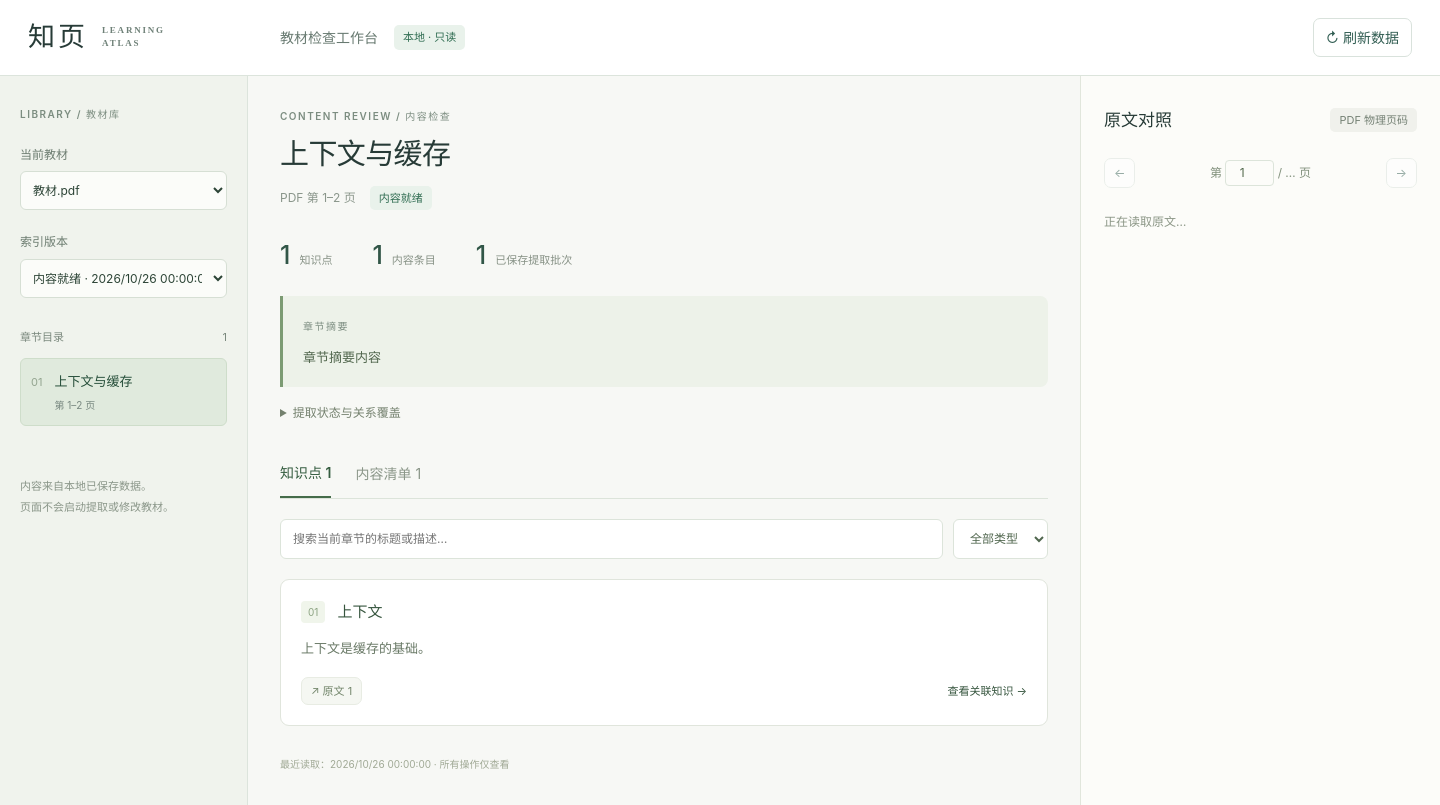
浏览已保存章节、筛选内容、点击引用并保留物理页码
This screenshot has width=1440, height=805.
Expected: the heading "上下文与缓存" is shown, [280, 136, 450, 170]
In the field labelled "搜索当前章节": (612,539) [280, 519, 943, 559], type "找不到"
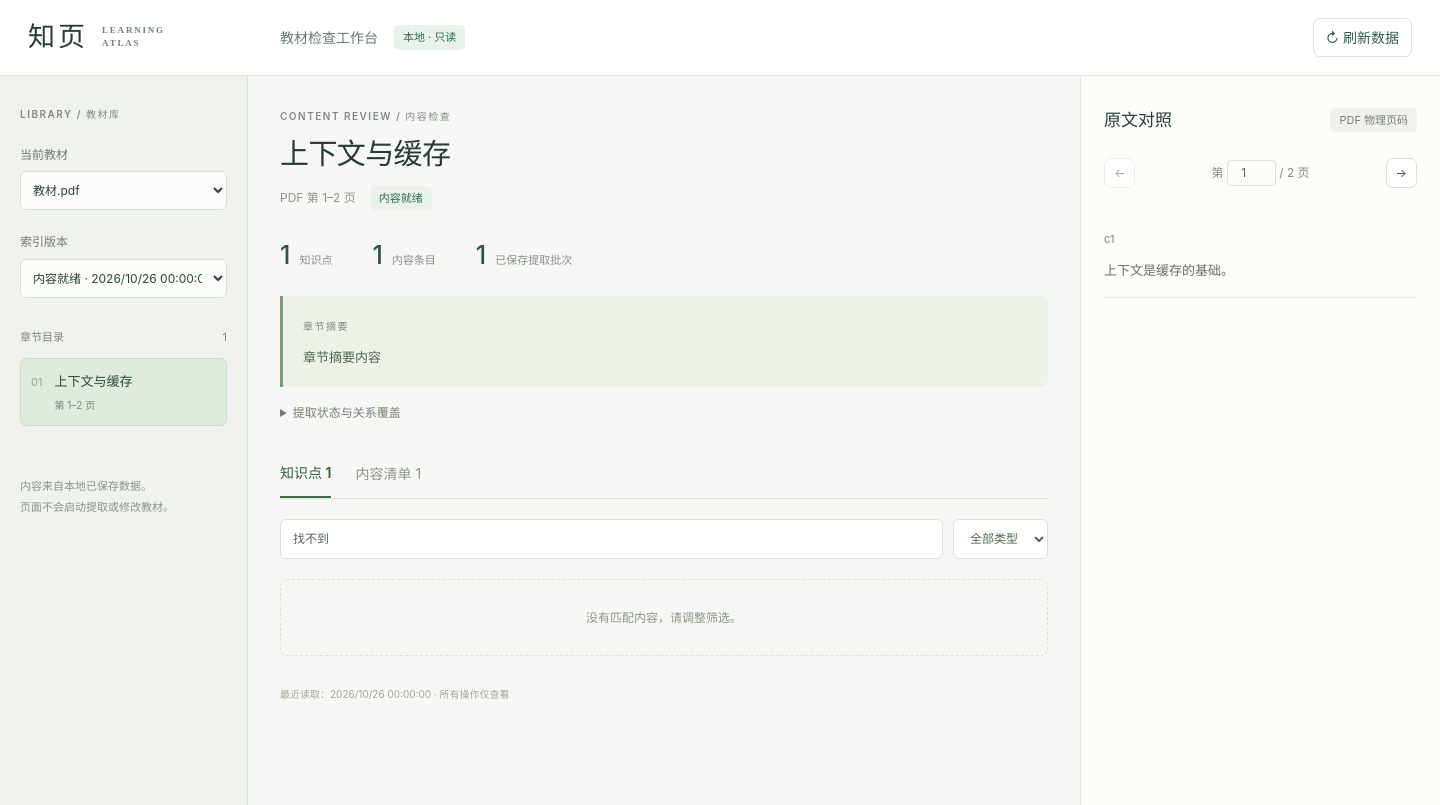
Now the text "没有匹配内容，请调整筛选。" is shown, box [280, 579, 1048, 656]
Clear the field named "搜索当前章节": (612,539) [280, 519, 943, 559]
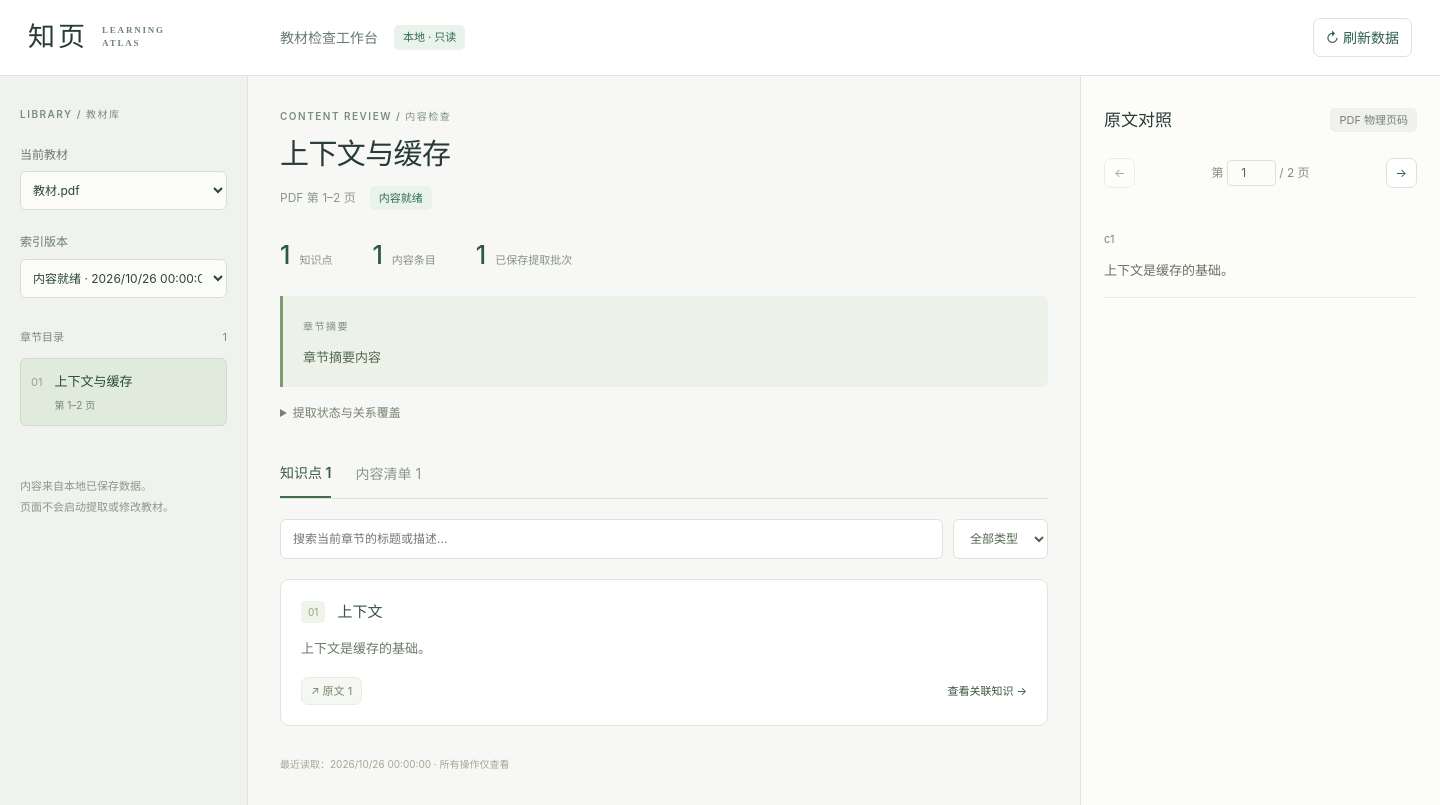
Click the button "↗ 原文 1": (332,691) [301, 677, 362, 705]
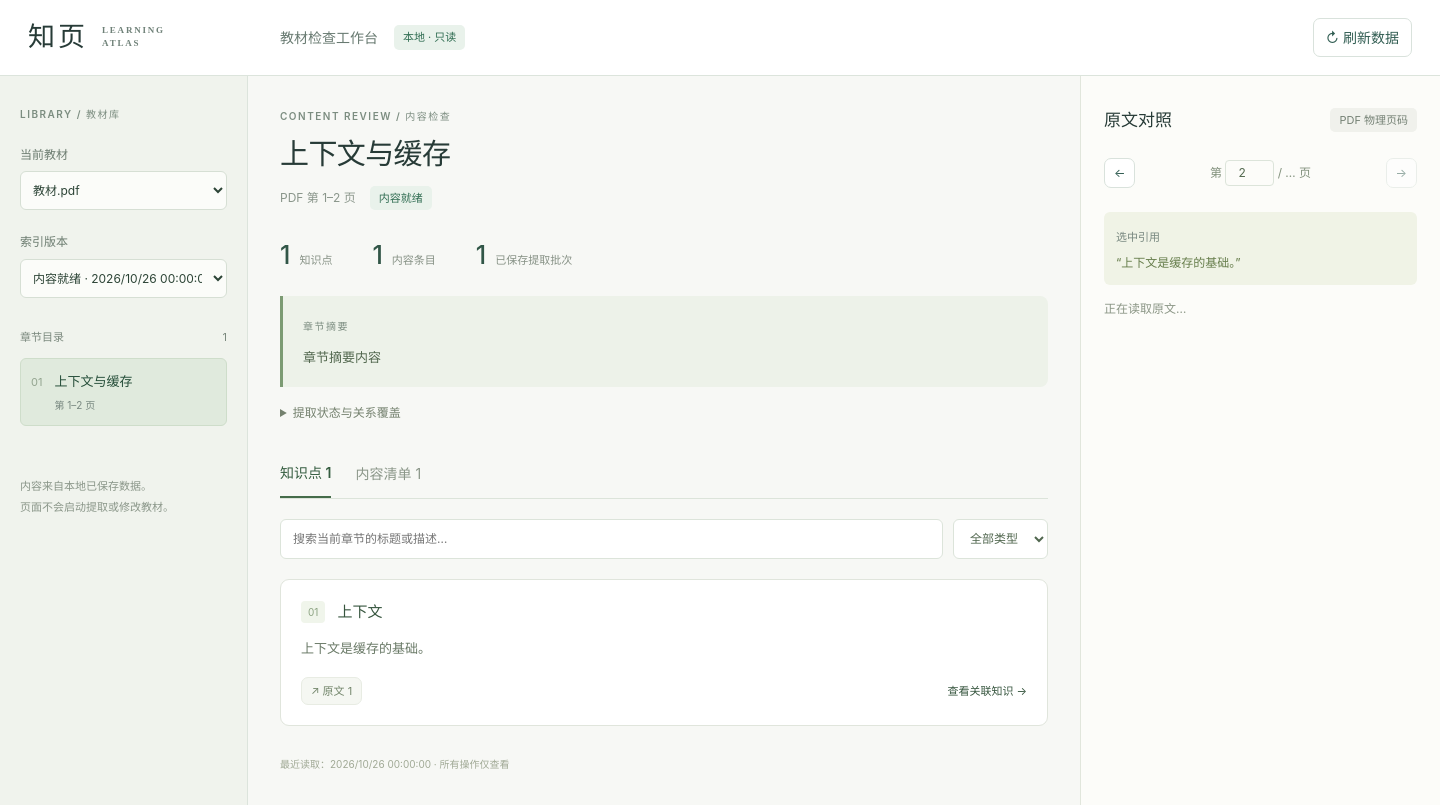
Now the number field showing "2" is shown, box [1225, 160, 1274, 186]
Now the text "选中引用" is shown, box [1116, 230, 1160, 244]
Click the tab "内容清单 1": (388,473) [356, 449, 421, 498]
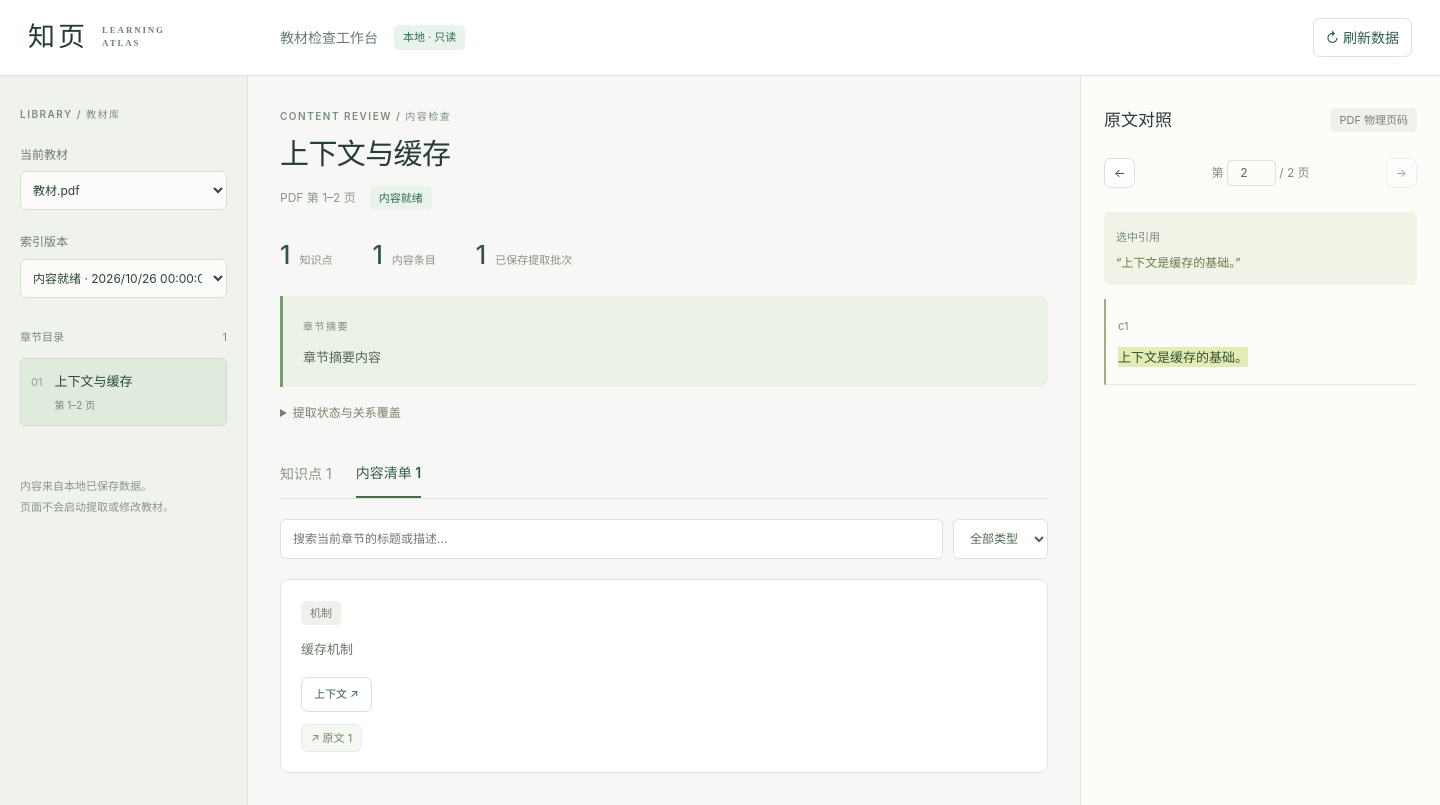
Now the text "缓存机制" is shown, box [301, 641, 353, 657]
